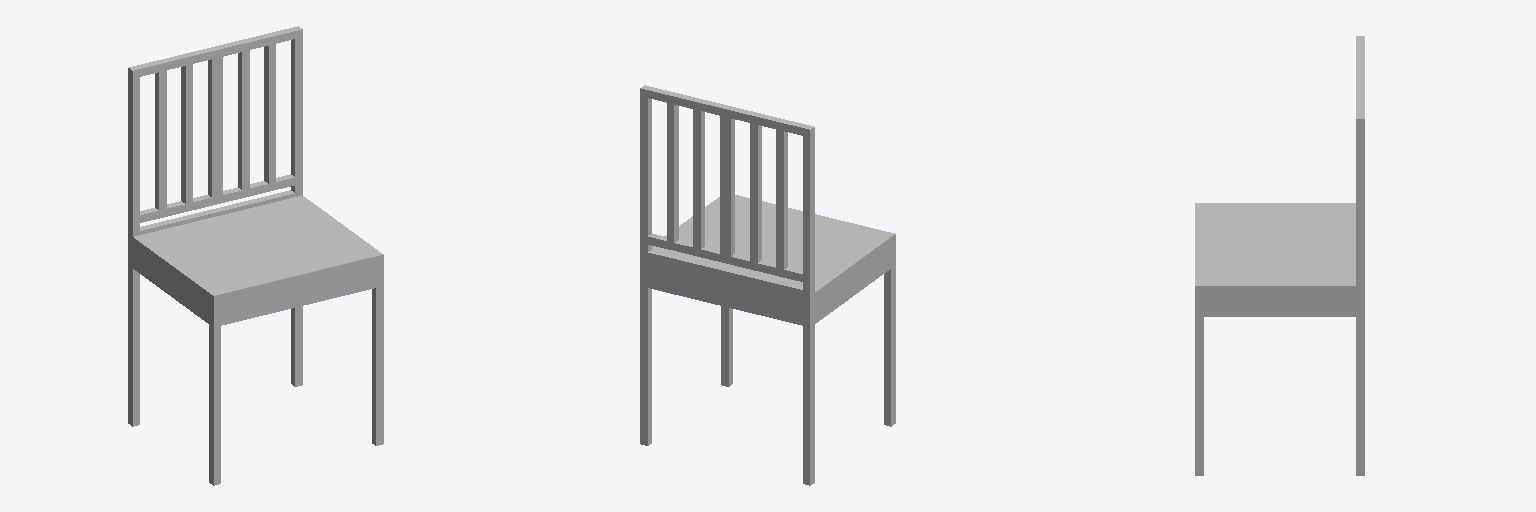
File: chair.obj
3 views of the same model, side by side, from view 1: azimuth 30°, elevation 25°; view 2: azimuth 150°, elevation 25°; view 3: azimuth 270°, elevation 25° (orthographic).
Visible parts, largest first — view 1: object 1; view 2: object 1; view 3: object 1.
Boxes of the visible parts, box(x1,y1,x2,y2) form: object 1: box(128, 26, 383, 485); object 1: box(640, 85, 895, 485); object 1: box(1195, 36, 1364, 475).
Bounding box in the file's own units: 4.5 × 9 × 3.9.